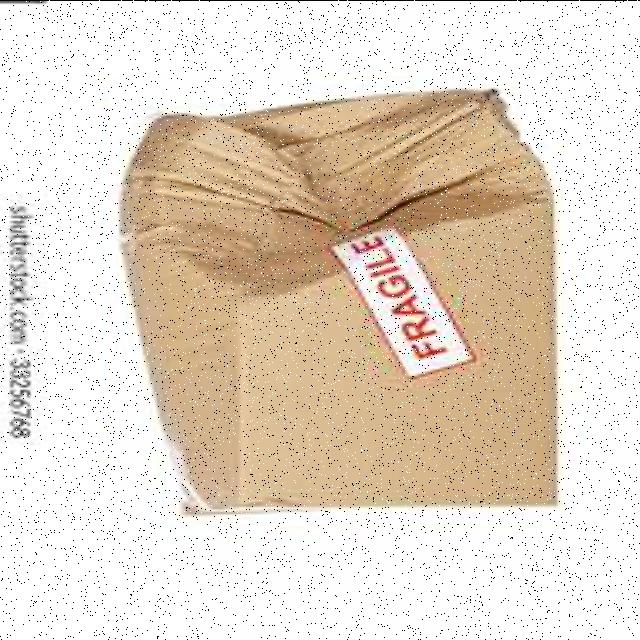defect: (109, 75, 566, 530)
